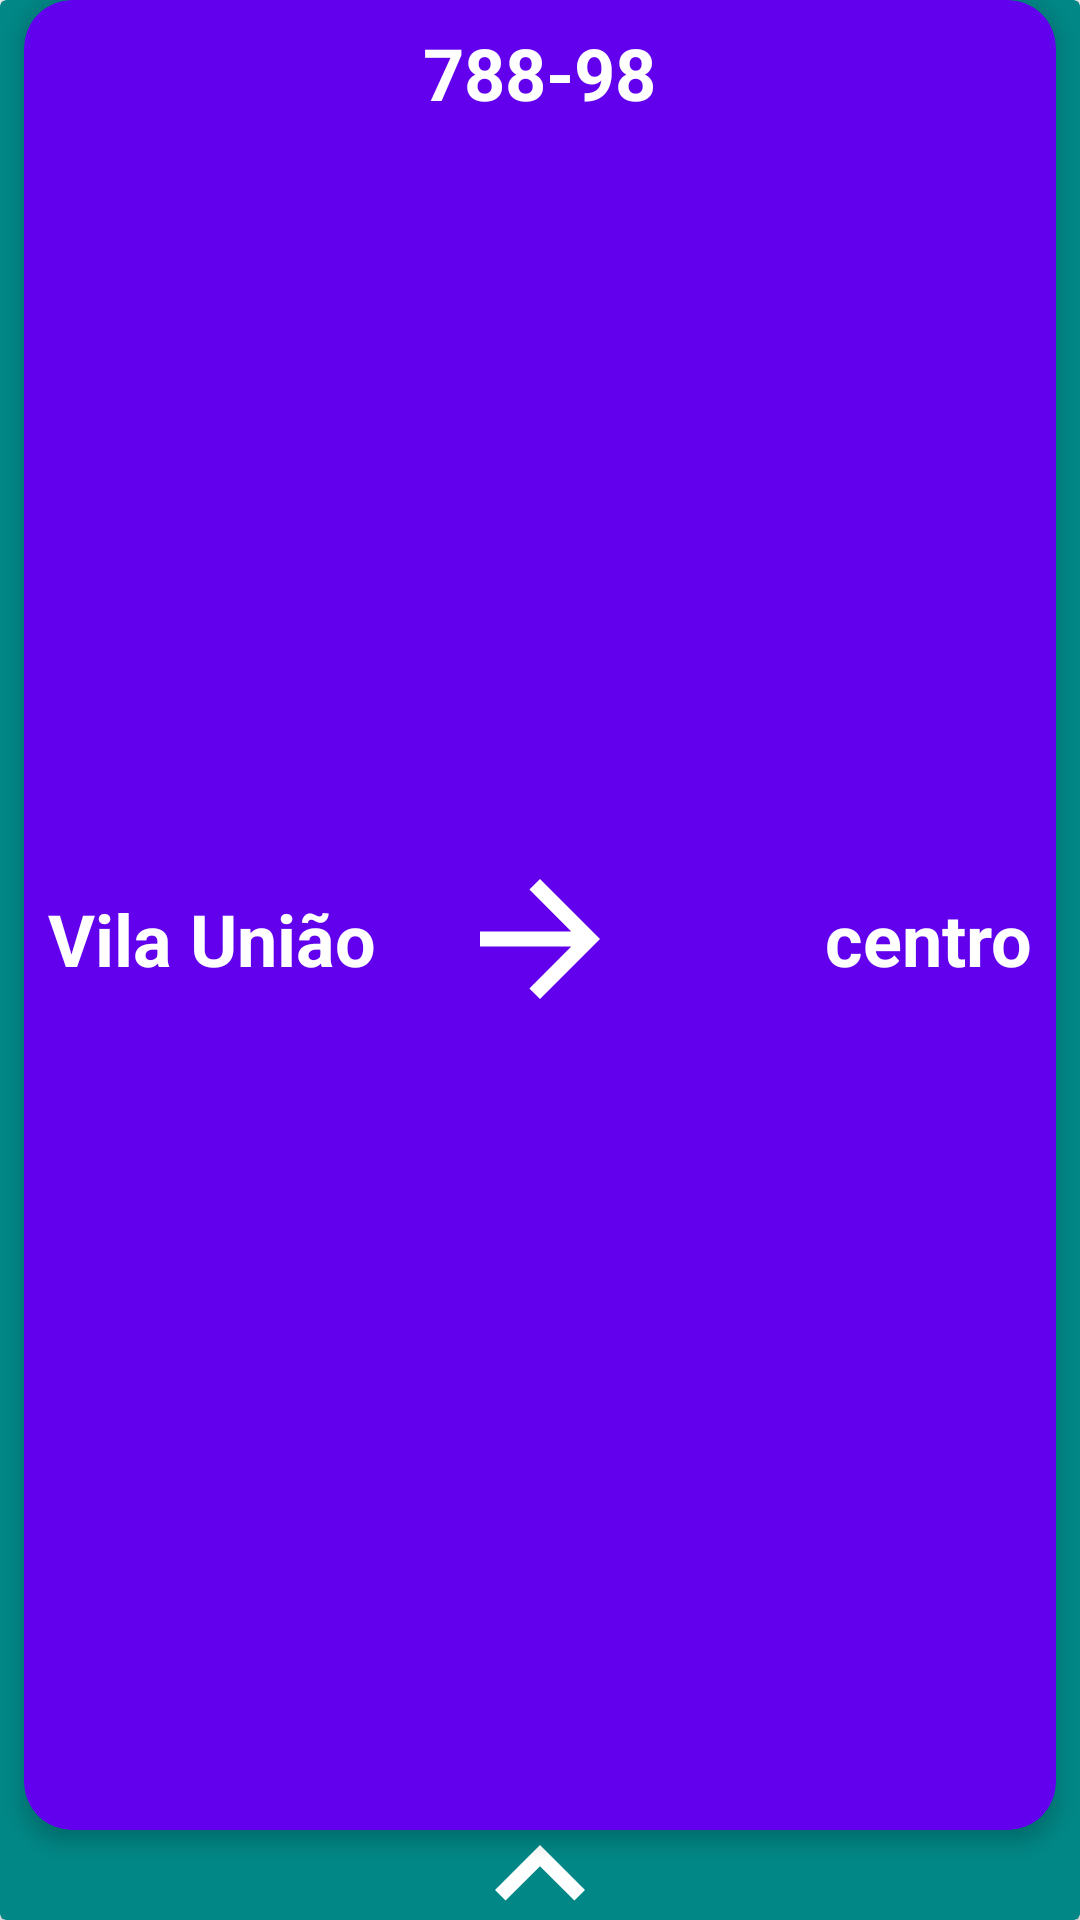

Point at icon controls on the screen. Image size 1080 x 1920, points as point (x, y).
arrow forward: point (540, 939)
keyboard arrow up: point (540, 1873)
